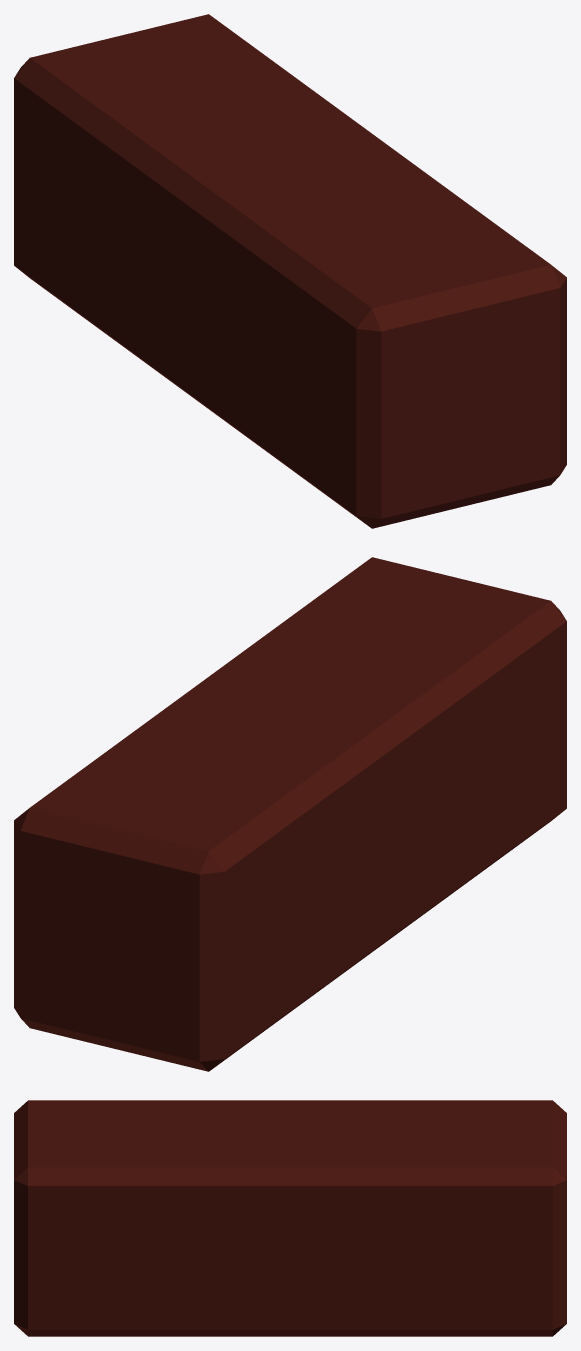
Rendered from Brique.fbx.
3 renders of one model, top to bottom at view 1: azimuth 30°, elevation 25°; view 2: azimuth 150°, elevation 25°; view 3: azimuth 270°, elevation 25°, orthographic. The views are drawn at different scales.
Visible parts, largest first — view 1: pCube1; view 2: pCube1; view 3: pCube1.
Part boxes in pixels (x1=…): pCube1: x1=14, y1=14, x2=566, y2=528; pCube1: x1=14, y1=557, x2=566, y2=1071; pCube1: x1=14, y1=1100, x2=566, y2=1336.
Size of the model in its own units: 1 by 1 by 2.97.
